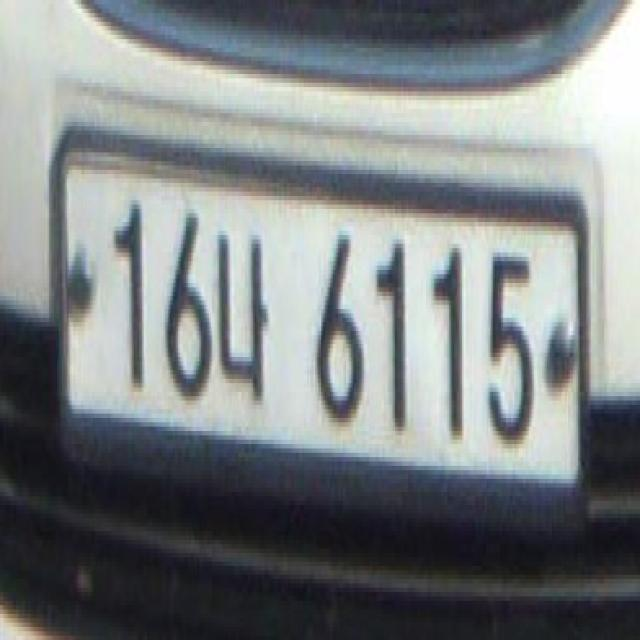1: (423, 222, 475, 448), (368, 231, 422, 448), (111, 178, 153, 405)
5: (478, 226, 542, 462)
6: (310, 214, 369, 436), (158, 204, 218, 413)
license_plate: (47, 118, 593, 544)
na: (212, 214, 273, 422)
